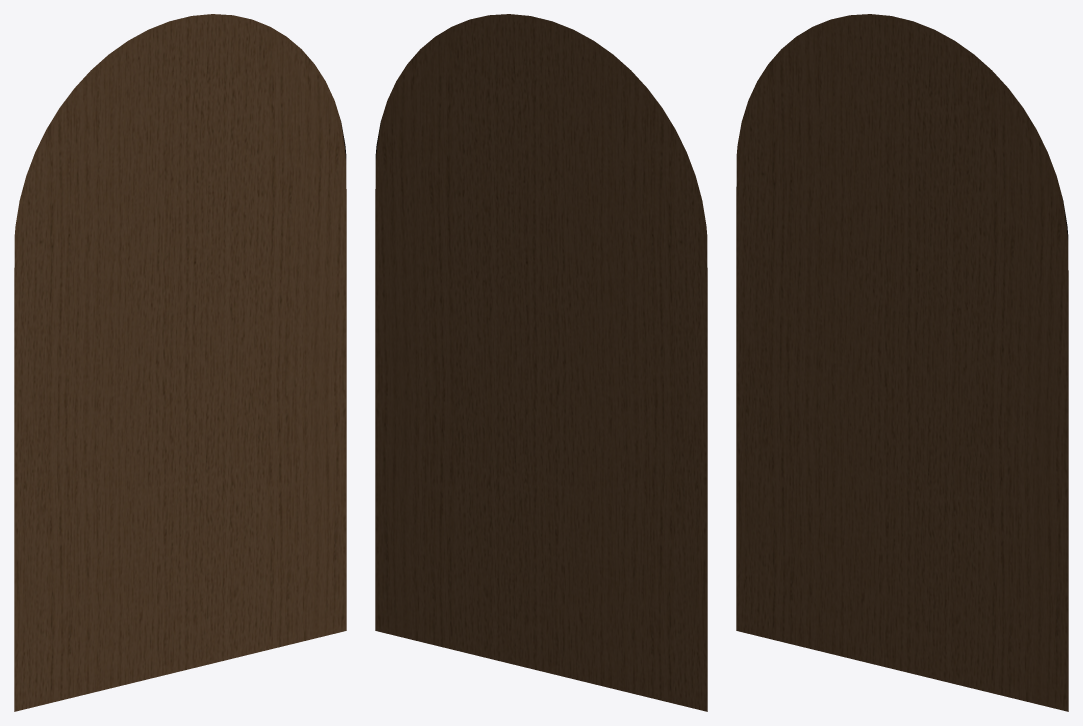
File: Back.obj
3 renders of one model, left to right at view 1: azimuth 30°, elevation 25°; view 2: azimuth 150°, elevation 25°; view 3: azimuth 330°, elevation 25°, orthographic.
Visible parts, largest first — view 1: Back_Jukebox_109967-geom.009; view 2: Back_Jukebox_109967-geom.009; view 3: Back_Jukebox_109967-geom.009.
Part boxes in pixels (box(x1,y1,x2,y2)): Back_Jukebox_109967-geom.009: box(14, 14, 346, 711); Back_Jukebox_109967-geom.009: box(375, 14, 707, 711); Back_Jukebox_109967-geom.009: box(736, 14, 1068, 711).
Size of the model in its own units: 8 by 15 by 3.1e-06.
1 material, 1 textured.
